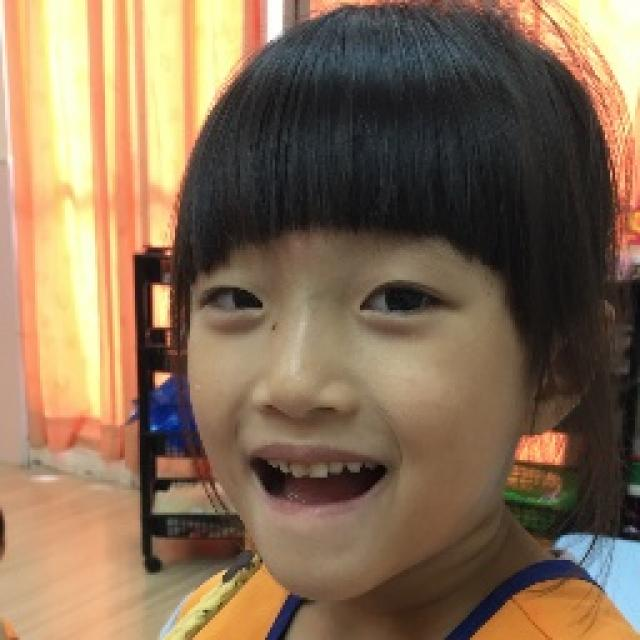earlobe: (523, 389, 566, 436)
eye: (355, 283, 457, 319), (194, 286, 274, 318)
nose: (255, 397, 356, 440)
wholeear: (525, 300, 617, 436)
